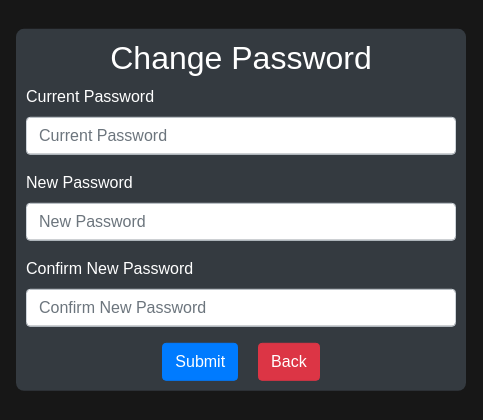
ChangeProfileInfo › Functionality › Update Password › should show error if passwords do not match
Type "newPass" into the password field labelled "New Password". click: (241, 222)
box: [26, 203, 456, 241]
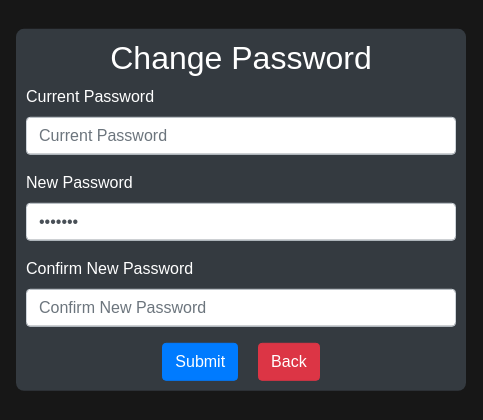
Type "notNewPass" into the password field labelled "Confirm New Password". click: (241, 308)
box: [26, 289, 456, 327]
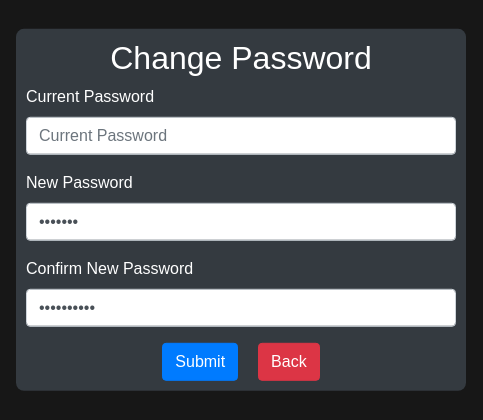
Click the button "Submit". click: (200, 362)
box: [162, 343, 238, 381]
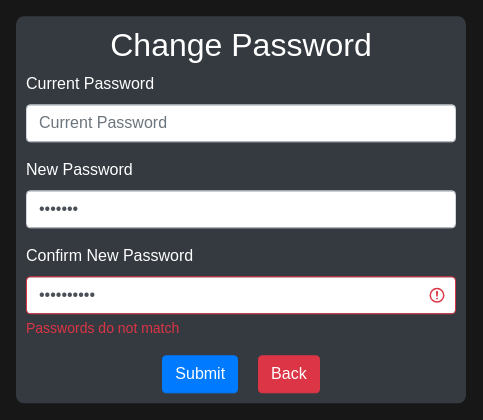
Expected: the text "Passwords do not match" is shown, [26, 321, 179, 337]
